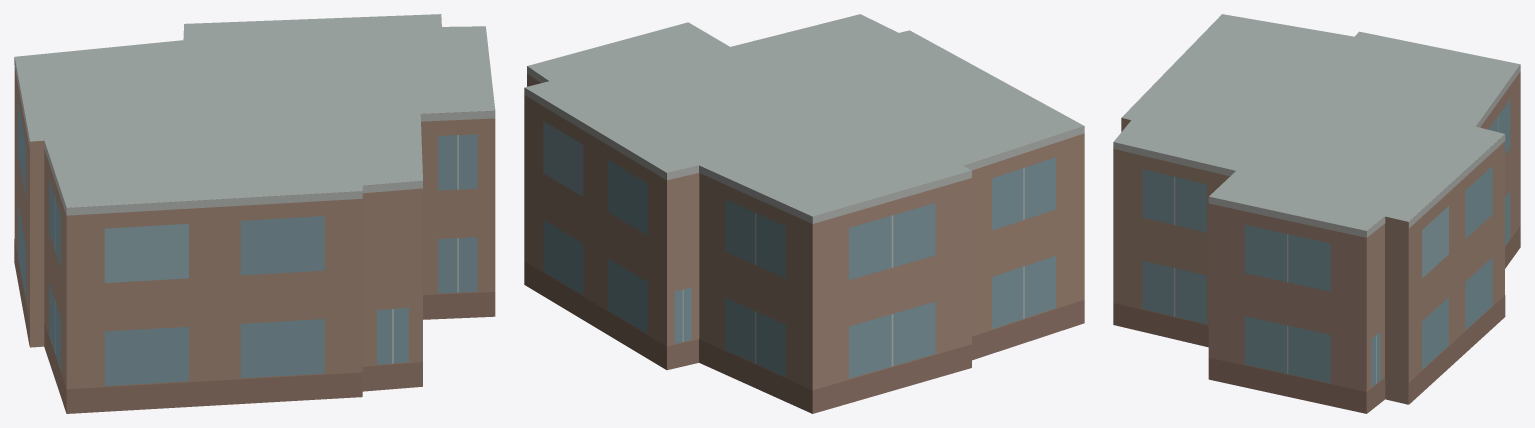
File: survey-upis-32659071.glb
3 views of the same model, side by side, from view 1: azimuth 30°, elevation 25°; view 2: azimuth 150°, elevation 25°; view 3: azimuth 270°, elevation 25° (orthographic). The views are drawn at different scales.
Visible parts, largest first — view 1: survey-upis-32659071.tmp; view 2: survey-upis-32659071.tmp; view 3: survey-upis-32659071.tmp.
Boxes of the visible parts, box(x1,y1,x2,y2) form: survey-upis-32659071.tmp: box(14, 14, 495, 413); survey-upis-32659071.tmp: box(524, 14, 1084, 413); survey-upis-32659071.tmp: box(1113, 14, 1520, 413).
Size of the model in its own units: 16.55 by 6.5 by 13.13.
